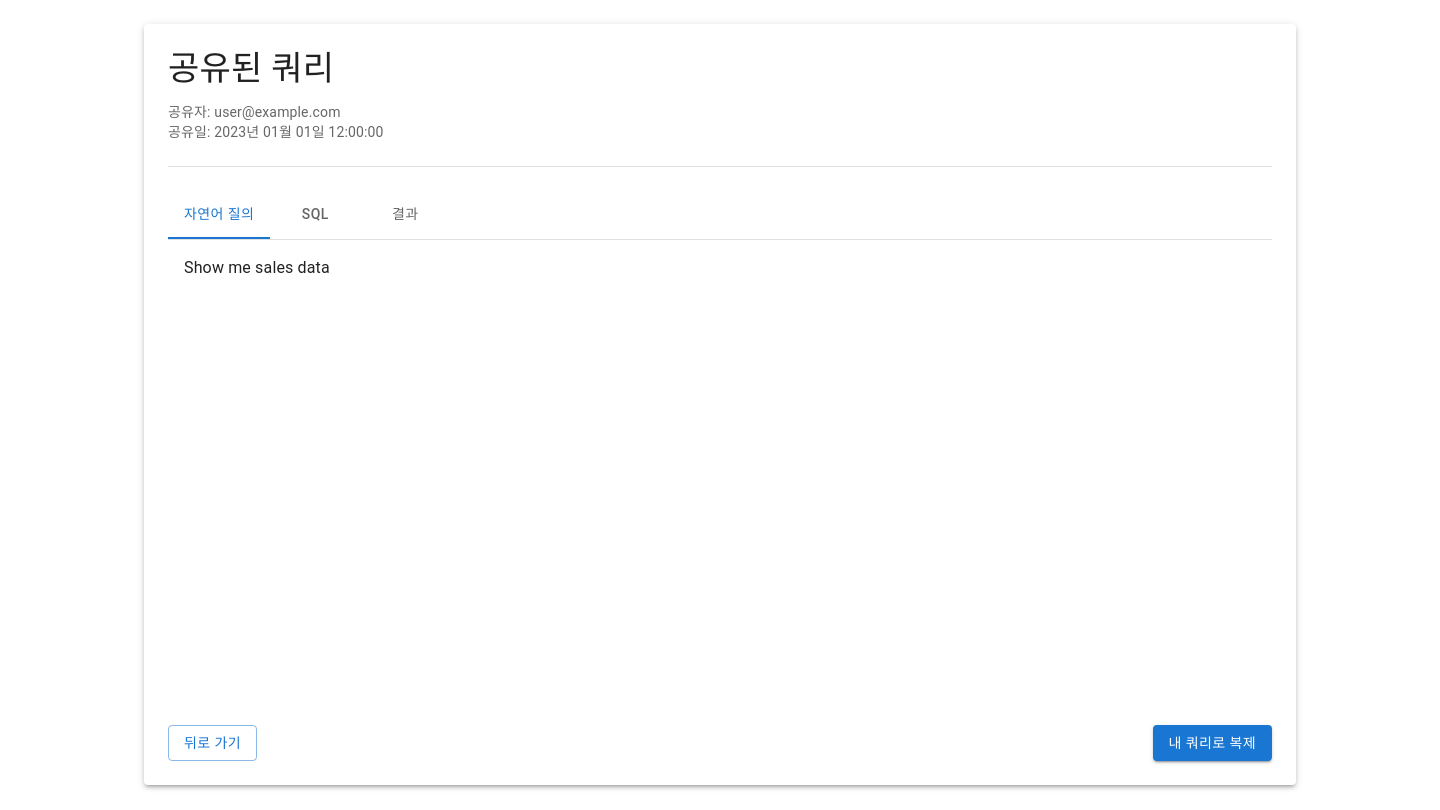
Test: SharedQueryView › renders query results correctly
Expected: the heading "공유된 쿼리" is shown, [168, 48, 334, 88]
// Click on the Results tab
Click the tab "결과".
click(405, 215)  # box [360, 191, 450, 239]
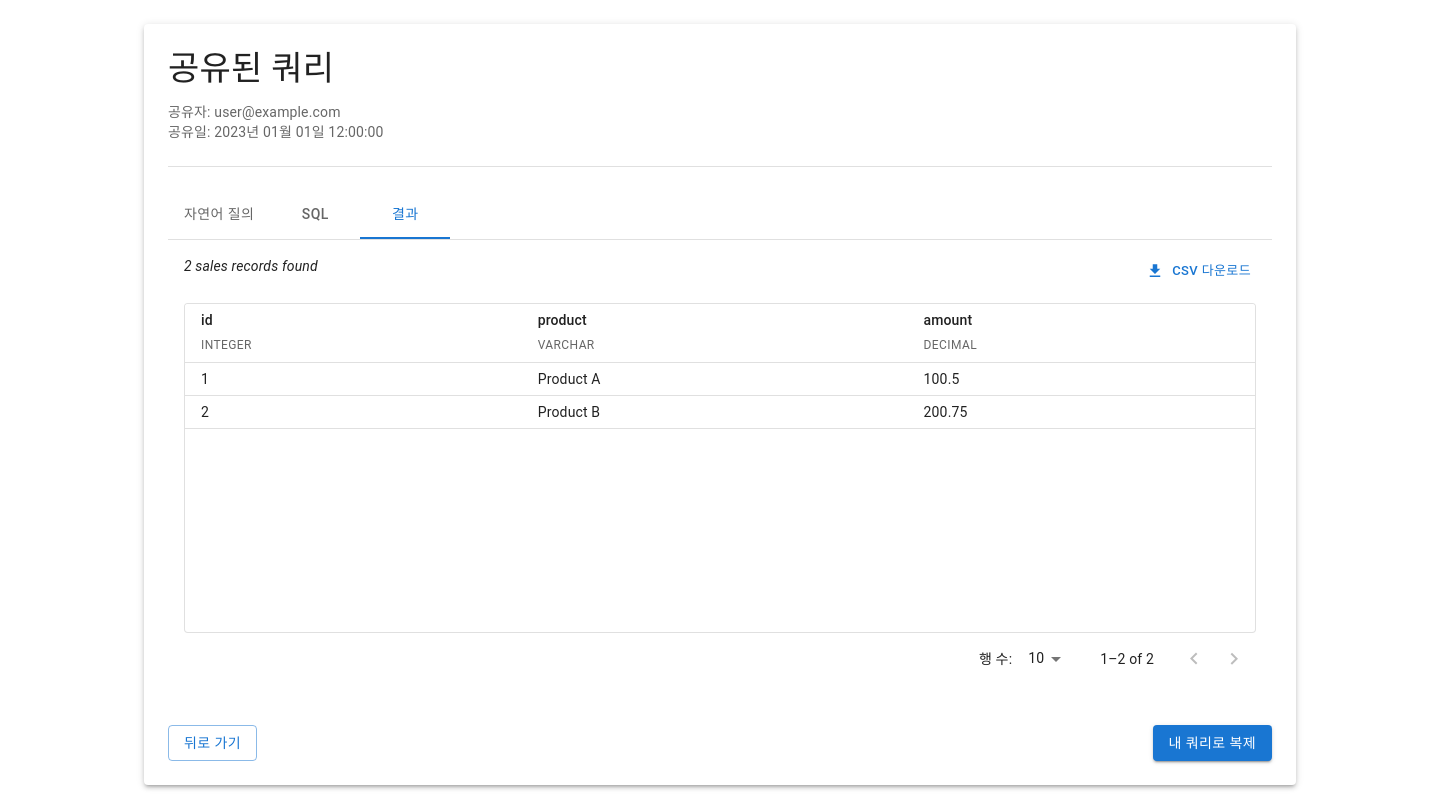
Result: the text "2 sales records found" is shown at [184, 258, 318, 274]
Result: the heading "id" is shown at [201, 312, 213, 328]
Result: the heading "product" is shown at [538, 312, 587, 328]
